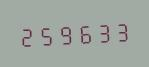five: (36, 21, 54, 48)
nine: (56, 20, 74, 47)
six: (75, 19, 93, 46)
three: (94, 18, 112, 45), (113, 17, 131, 44)
two: (17, 22, 35, 49)
